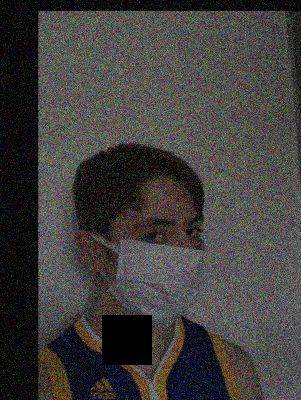with_mask: (109, 207, 207, 332)
